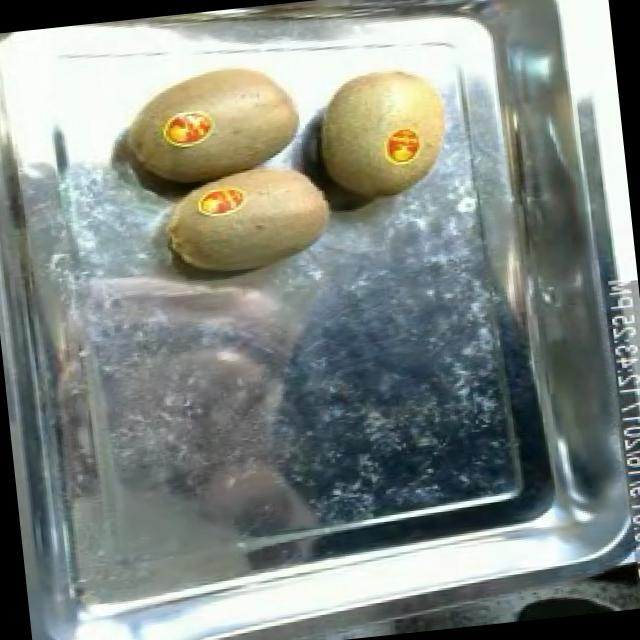Fruit: (108, 44, 316, 190), (152, 152, 344, 288), (301, 51, 464, 210)
